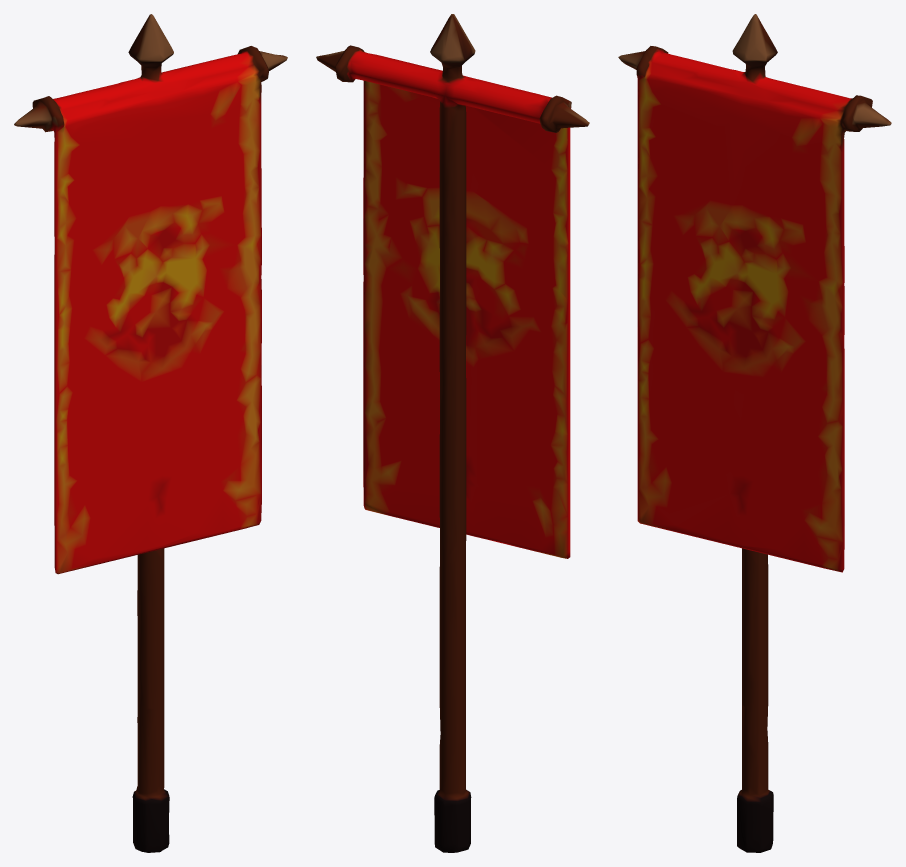
Rendered from gen3d-tournament-banner-lod0.glb.
The picture shows the model from 3 angles, left to right: view 1: azimuth 30°, elevation 25°; view 2: azimuth 150°, elevation 25°; view 3: azimuth 330°, elevation 25°; orthographic projection.
Parts seen in each view (by area): view 1: part_0; view 2: part_0; view 3: part_0.
Boxes of the visible parts, bbox=[...] form: part_0: bbox=[14, 14, 287, 852]; part_0: bbox=[316, 14, 589, 852]; part_0: bbox=[618, 14, 891, 852].
Bounding box in the file's own units: 0.3424 × 0.9985 × 0.0565.
